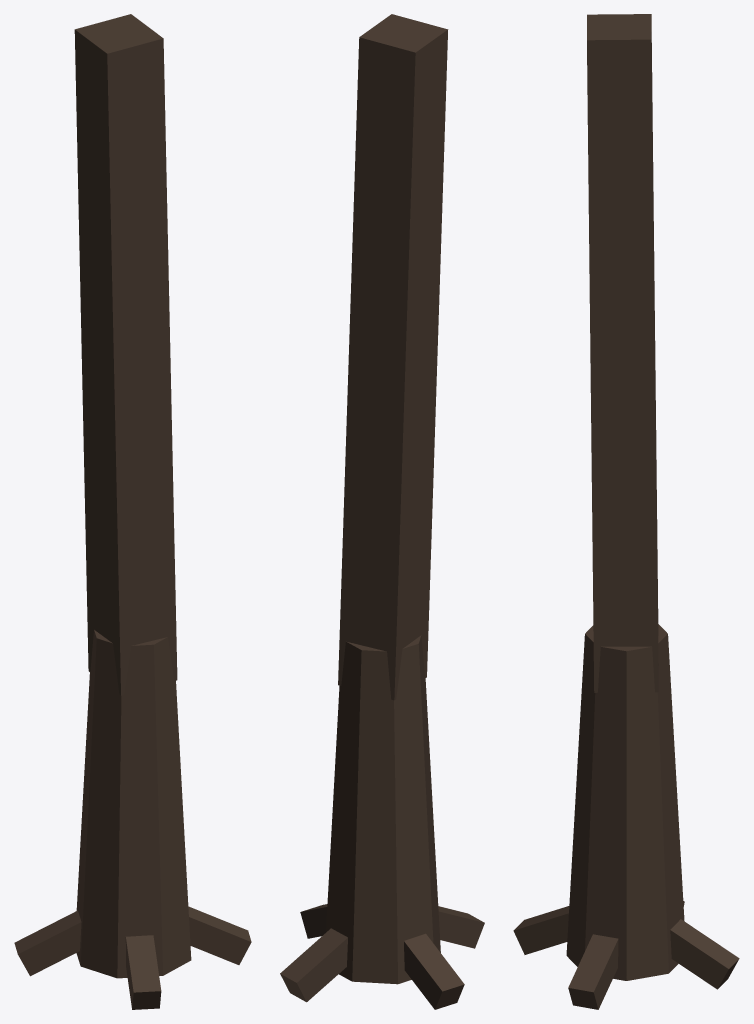
File: tree_pine_l_trunk.fbx
3 renders of one model, left to right at view 1: azimuth 30°, elevation 25°; view 2: azimuth 150°, elevation 25°; view 3: azimuth 270°, elevation 25°, orthographic.
Visible parts, largest first — view 1: tree_pine_l_trunk; view 2: tree_pine_l_trunk; view 3: tree_pine_l_trunk.
Part boxes in pixels (left/top/right/bottom): tree_pine_l_trunk: left=14, top=14, right=251, bottom=1009; tree_pine_l_trunk: left=280, top=14, right=484, bottom=1009; tree_pine_l_trunk: left=513, top=14, right=739, bottom=1009.
Bounding box in the file's own units: 784 × 3567 × 784.
